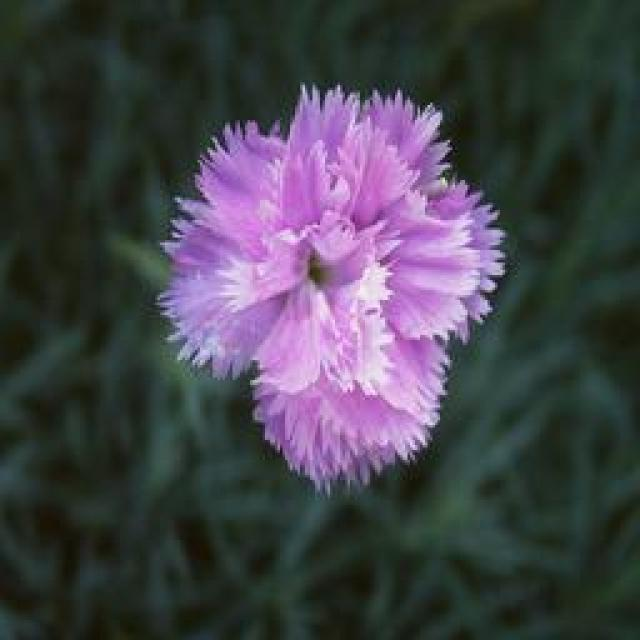carnation: (144, 63, 526, 486)
